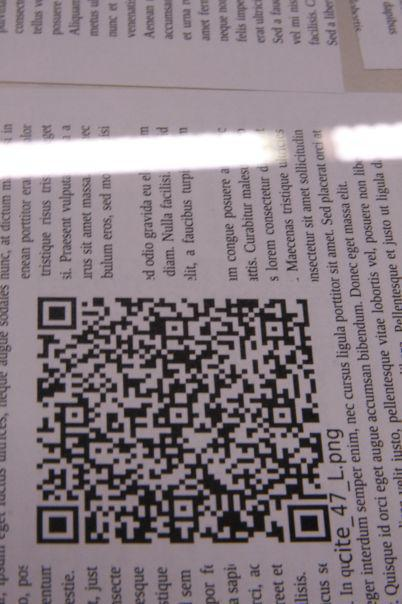Finder pattern: (30, 500, 85, 551), (282, 498, 335, 550), (33, 293, 83, 334)
